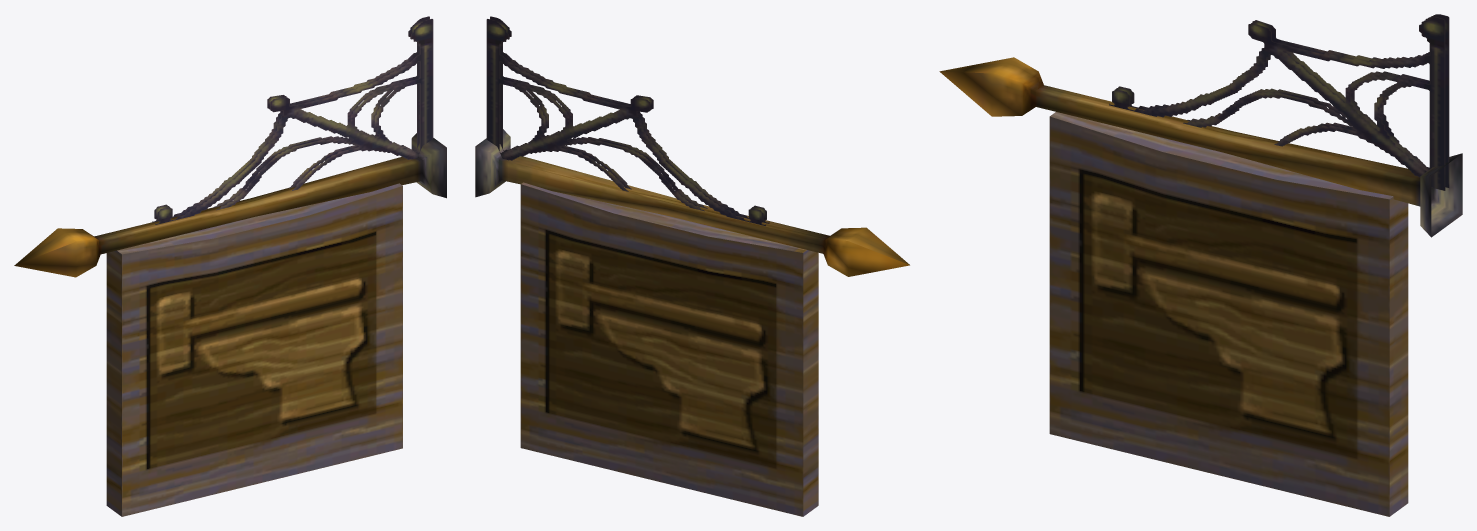
The model's file is INST_LT_ANVIL_SIGN_01.fbx.
3 views of the same model, side by side, from view 1: azimuth 30°, elevation 25°; view 2: azimuth 150°, elevation 25°; view 3: azimuth 330°, elevation 25° (orthographic). The views are drawn at different scales.
Visible parts, largest first — view 1: INST_LT_ANVIL_SIGN_01; view 2: INST_LT_ANVIL_SIGN_01; view 3: INST_LT_ANVIL_SIGN_01.
Part boxes in pixels (x1,y1,x2,y2): INST_LT_ANVIL_SIGN_01: (14, 16, 446, 516); INST_LT_ANVIL_SIGN_01: (475, 16, 909, 516); INST_LT_ANVIL_SIGN_01: (939, 14, 1462, 516).
Bounding box in the file's own units: 15663 × 14863 × 1677.
Materials: 2 (2 with a texture image).
